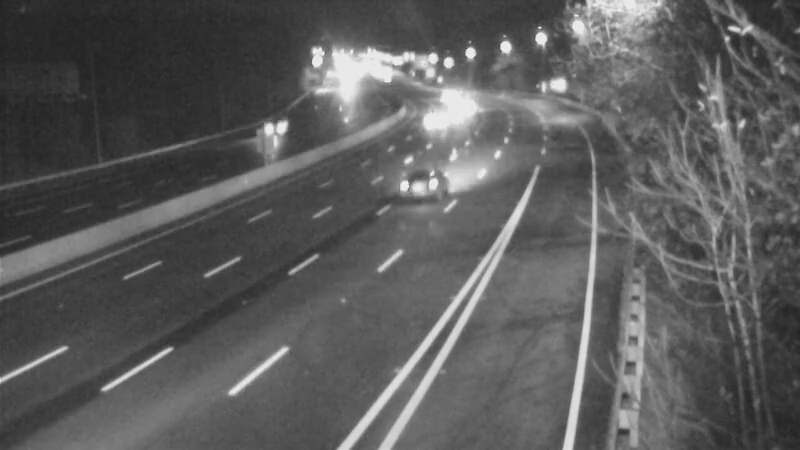vehicle: (377, 142, 457, 222), (421, 66, 471, 116), (438, 81, 488, 131), (412, 94, 462, 144), (243, 103, 293, 153)
